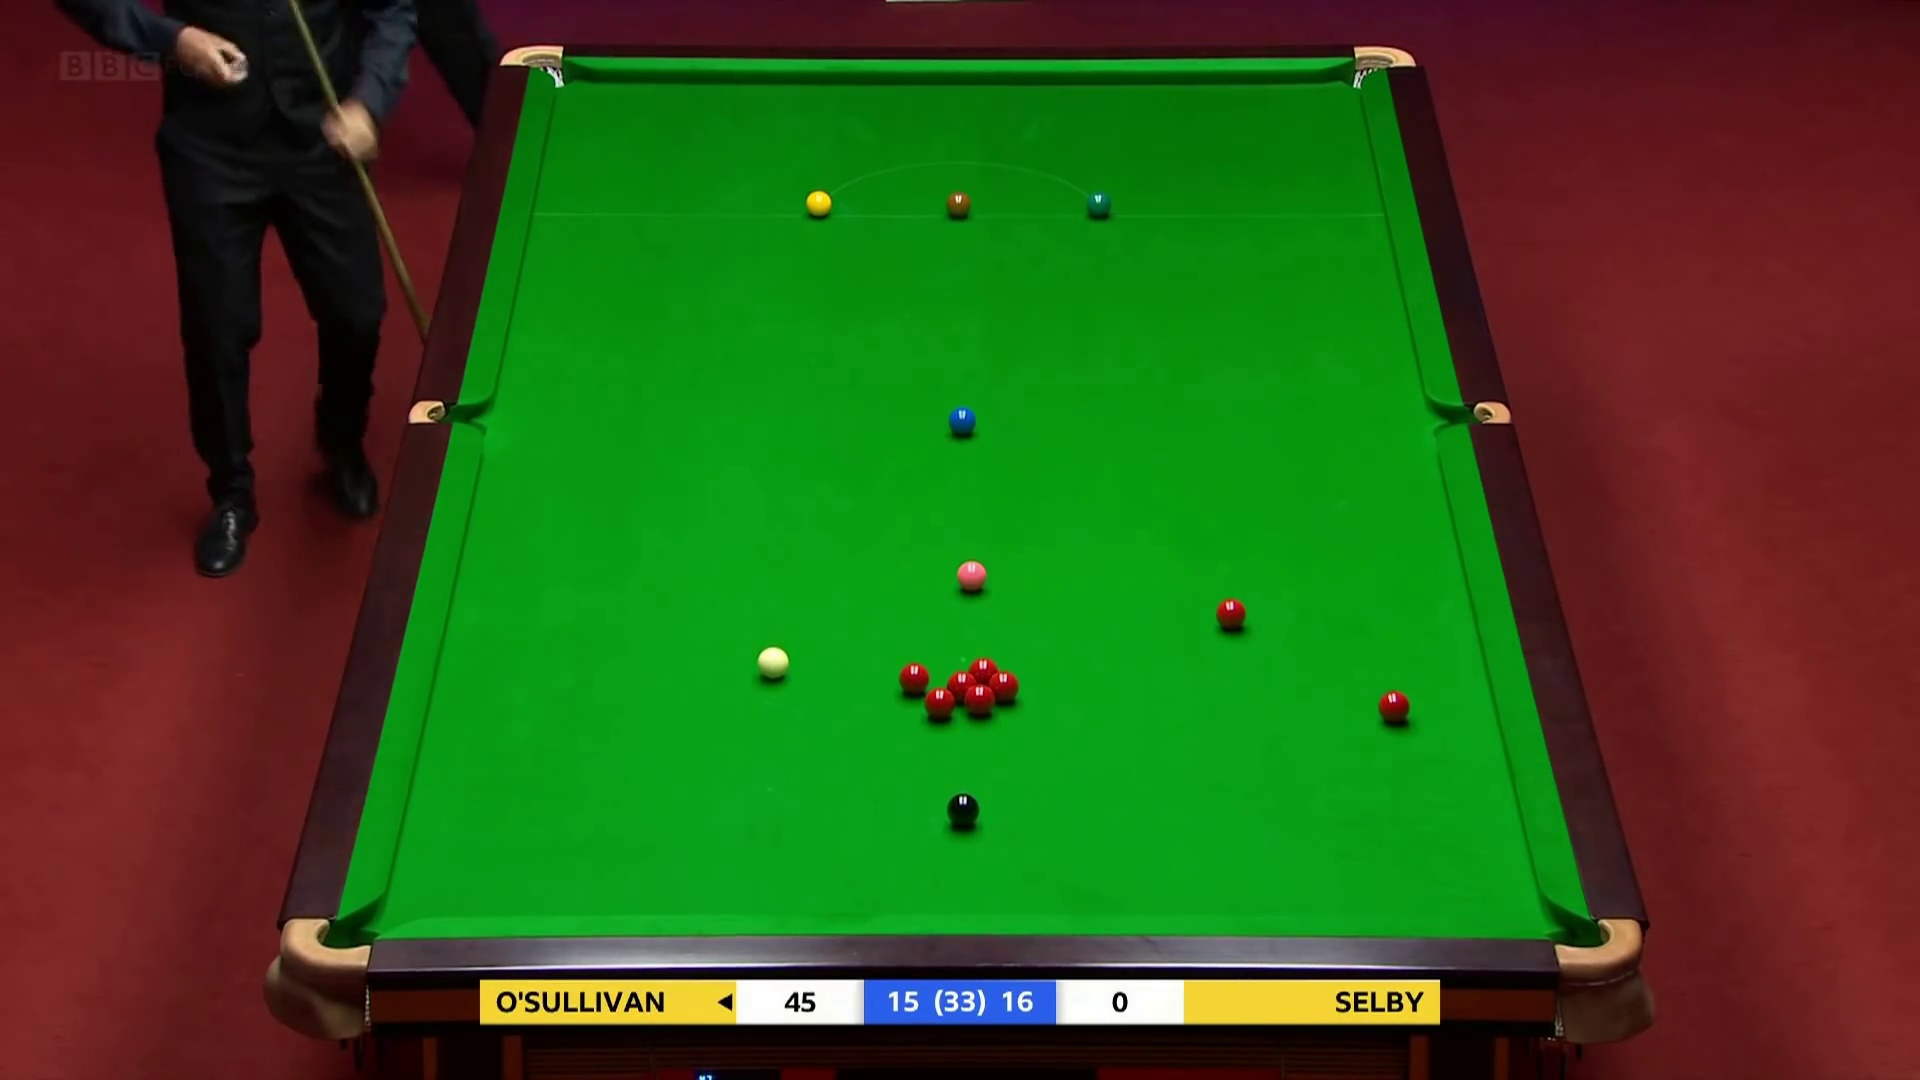black: (943, 790, 985, 837)
blue: (945, 405, 982, 443)
brown: (947, 189, 972, 222)
green: (1083, 189, 1118, 228)
pink: (953, 555, 996, 601)
red: (982, 665, 1026, 708), (1373, 684, 1414, 731), (963, 684, 1001, 728), (919, 686, 957, 728), (1215, 595, 1250, 640), (897, 659, 932, 699), (964, 653, 1005, 687), (945, 669, 978, 708)
white: (756, 644, 793, 684)
yellow: (803, 185, 835, 224)
